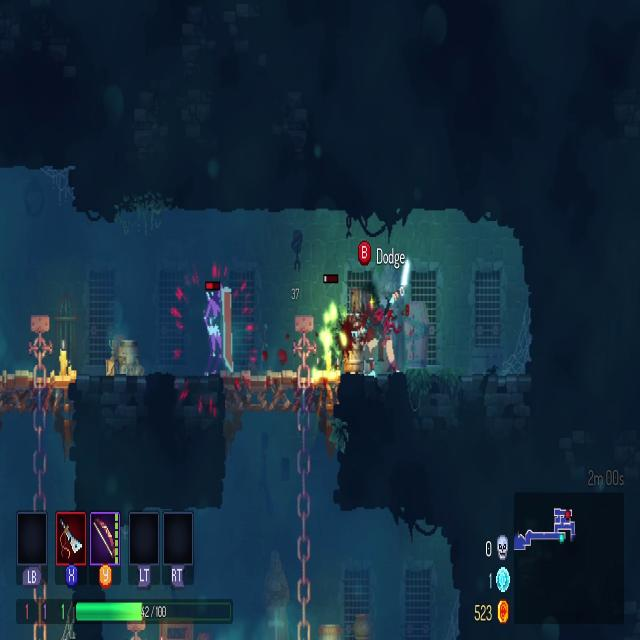agents: (374, 298, 402, 376)
enemy_green_puncher: (314, 296, 350, 382)
enemy_purple_shield: (203, 283, 239, 377)
wood_floor: (222, 369, 342, 420), (0, 373, 75, 420)
